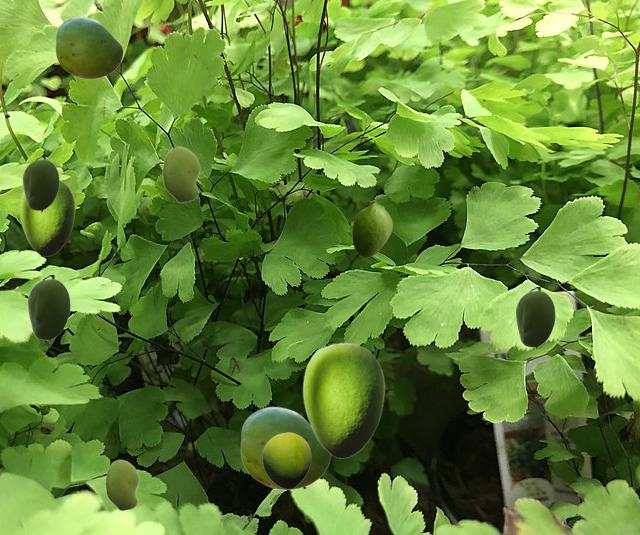green_mango: (302, 342, 384, 457), (240, 406, 330, 489), (19, 179, 74, 255), (55, 16, 122, 78), (27, 275, 69, 342), (262, 432, 310, 488), (515, 287, 554, 349), (352, 200, 391, 256), (162, 146, 199, 202), (22, 156, 58, 212), (105, 459, 138, 510)
